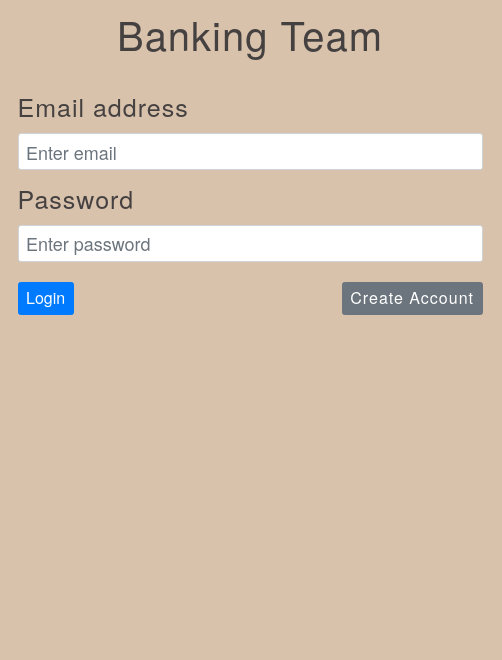
Test: Should positive and negative messages for register page › (TP_0003) Should test to see profile loading message
expect the heading "Banking Team" is shown: met, box [117,5,383,62]
Click the link "Create Account": {"x": 413, "y": 299} [342,282,483,316]
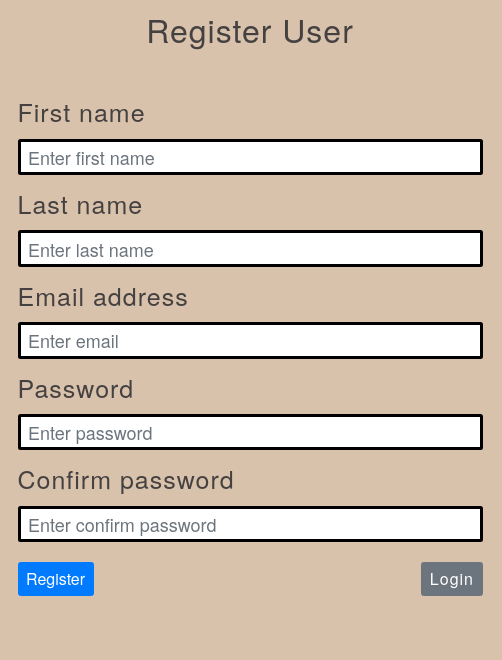
expect the heading "Register User" is shown: met, box [146,6,354,52]
In the field named "first_name": {"x": 251, "y": 158} [18,139,483,176], type "Clint"
In the field named "last_name": {"x": 251, "y": 249} [18,230,483,267], type "Rizzo"
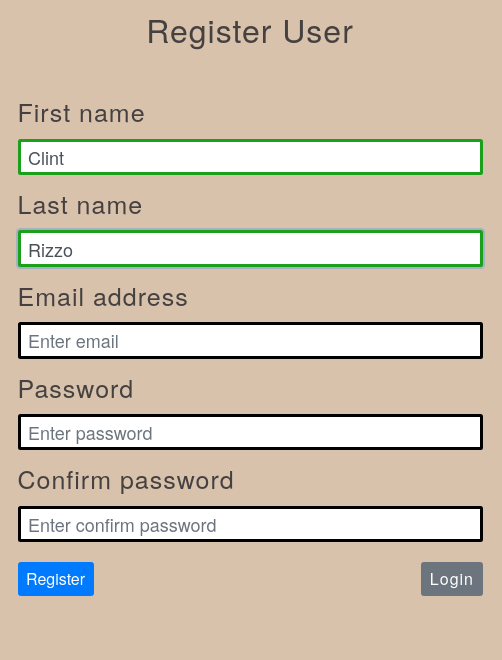
In the field named "email": {"x": 251, "y": 341} [18,322,483,359], type "hello@cypress.io"
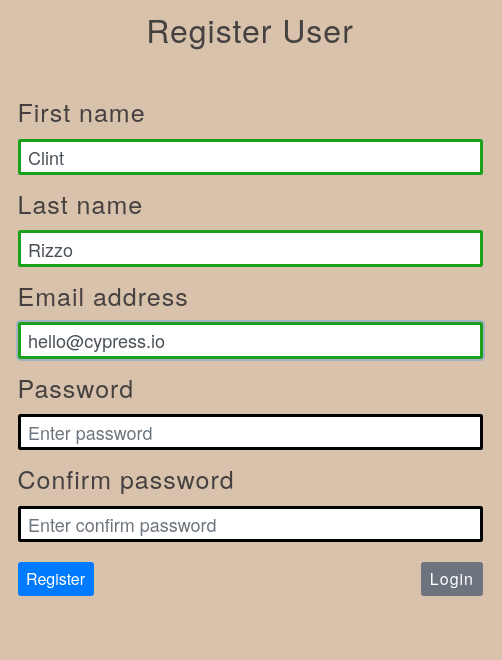
In the password field named "password": {"x": 251, "y": 433} [18,414,483,451], type "123456cpr"
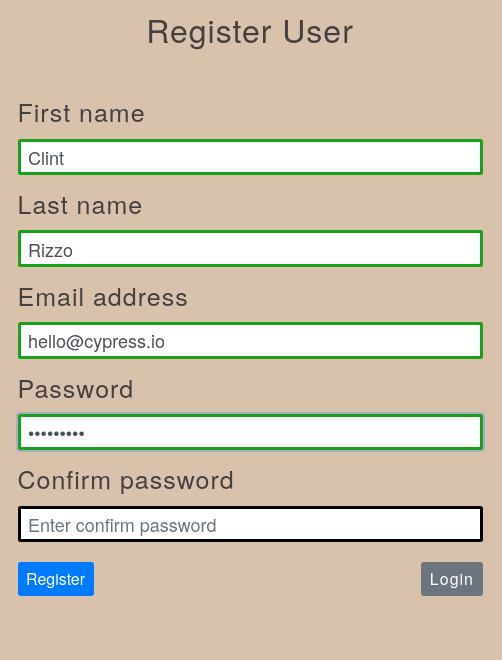
In the password field named "cpassword": {"x": 251, "y": 525} [18,506,483,543], type "123456cpr"
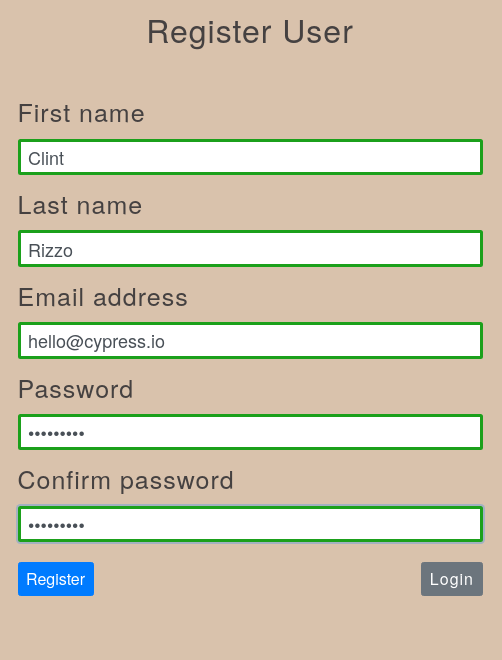
expect the field named "first_name" has style "border-color"="rgb(27, 160, 27)": met, box [18,139,483,176]
expect the field named "last_name" has style "border-color"="rgb(27, 160, 27)": met, box [18,230,483,267]
expect the field named "email" has style "border-color"="rgb(27, 160, 27)": met, box [18,322,483,359]
Click the button "Register": {"x": 56, "y": 579} [18,562,94,596]
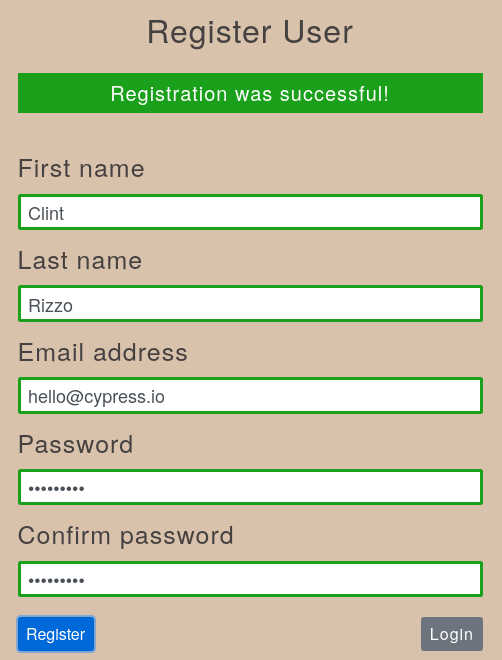
expect the text with class "successMsg" reads "Registration was successful!": met, box [110,78,390,107]
